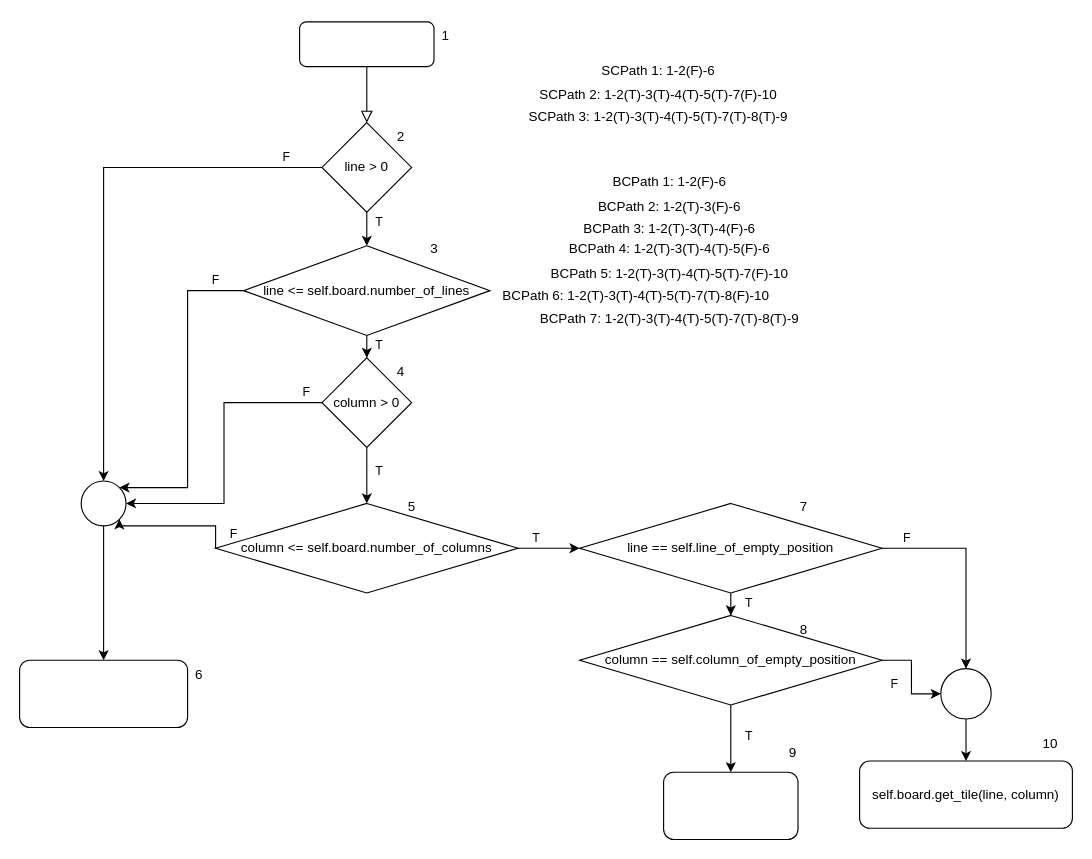
This 1092x859 diagram has some shape labels left out. Here are the shapes that lost their labels. From the top down, the centre of each, then its label:
[366,44]: line, column
[103,693]: InvalidPositionException()
[730,805]: return(" ")
